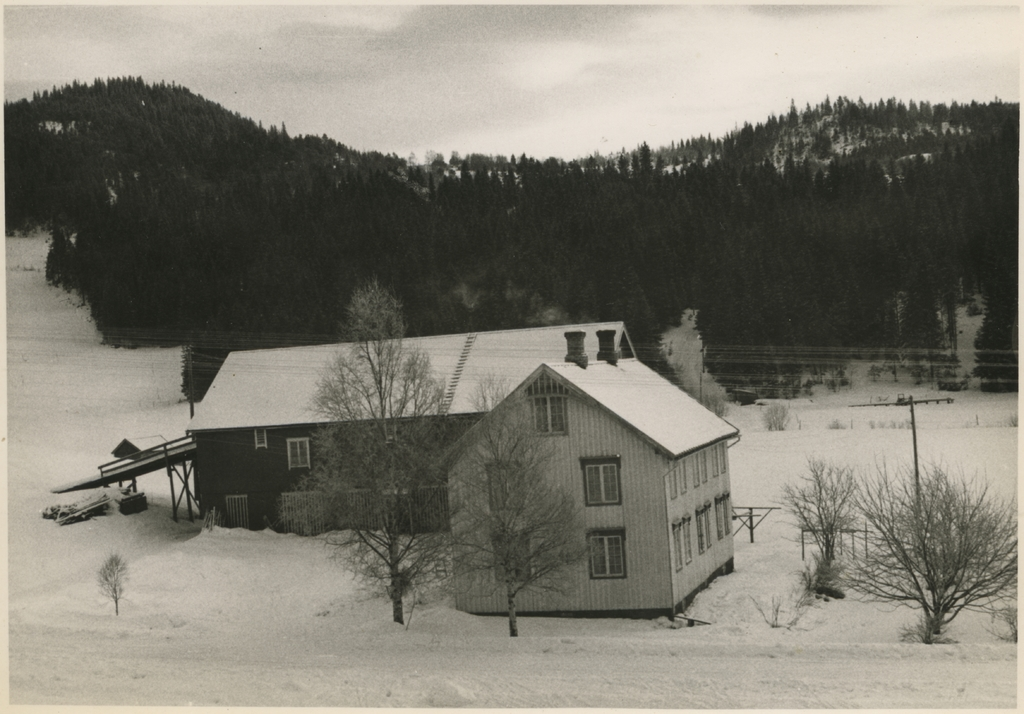Tree: (6, 73, 1020, 416), (292, 283, 478, 629), (428, 365, 593, 649), (843, 443, 1004, 643), (773, 449, 865, 585), (650, 308, 733, 427), (94, 540, 135, 613)
